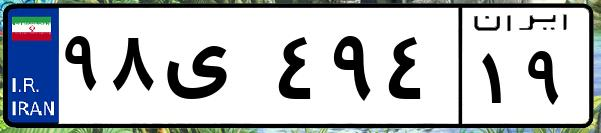1: (475, 38, 525, 113)
4: (270, 28, 330, 110), (385, 28, 445, 110)
8: (110, 28, 158, 98)
9: (330, 28, 385, 110), (57, 26, 110, 100), (525, 38, 570, 115)
ی: (158, 20, 270, 120)
